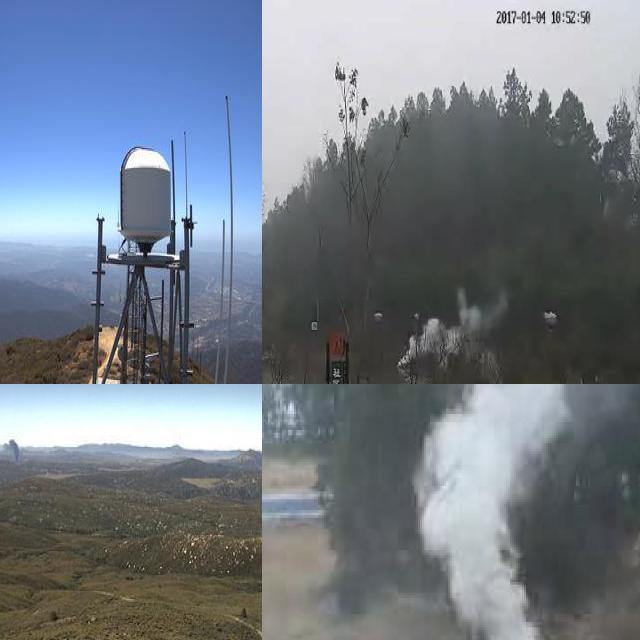smoke: (410, 384, 638, 640), (394, 287, 508, 370), (0, 434, 23, 468)
